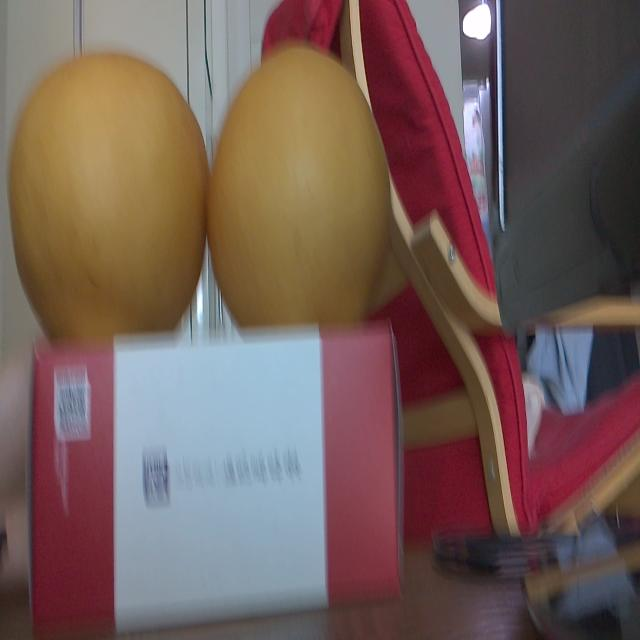pear: (7, 51, 209, 340), (205, 41, 392, 323)
